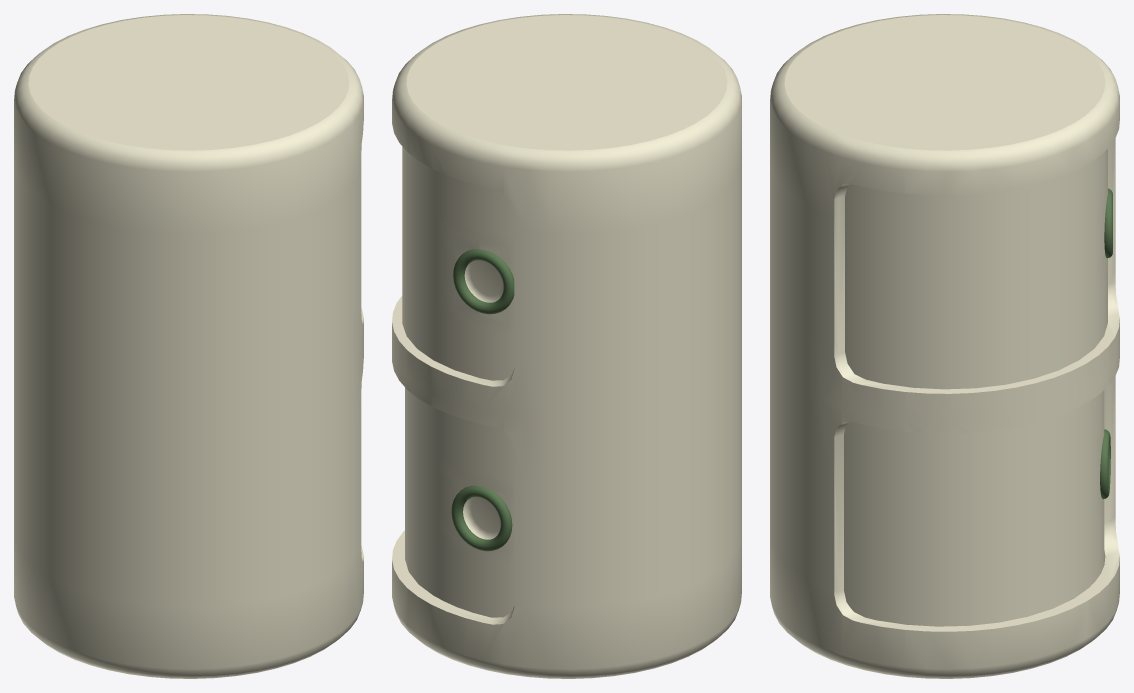
The model's file is Storage.fbx.
3 renders of one model, left to right at view 1: azimuth 30°, elevation 25°; view 2: azimuth 150°, elevation 25°; view 3: azimuth 270°, elevation 25°, orthographic.
Visible parts, largest first — view 1: Body; view 2: Body, TopDoor, BottomDoor; view 3: Body, TopDoor, BottomDoor.
Boxes of the visible parts, x1,y1,x2,y2 form: Body: (14,14,363,678); Body: (392,14,741,678); TopDoor: (402,146,514,380); BottomDoor: (405,387,514,617); Body: (770,14,1119,678); TopDoor: (845,149,1112,389); BottomDoor: (844,390,1110,626).
Bounding box in the file's own units: 2.5 × 4.17 × 2.5.
